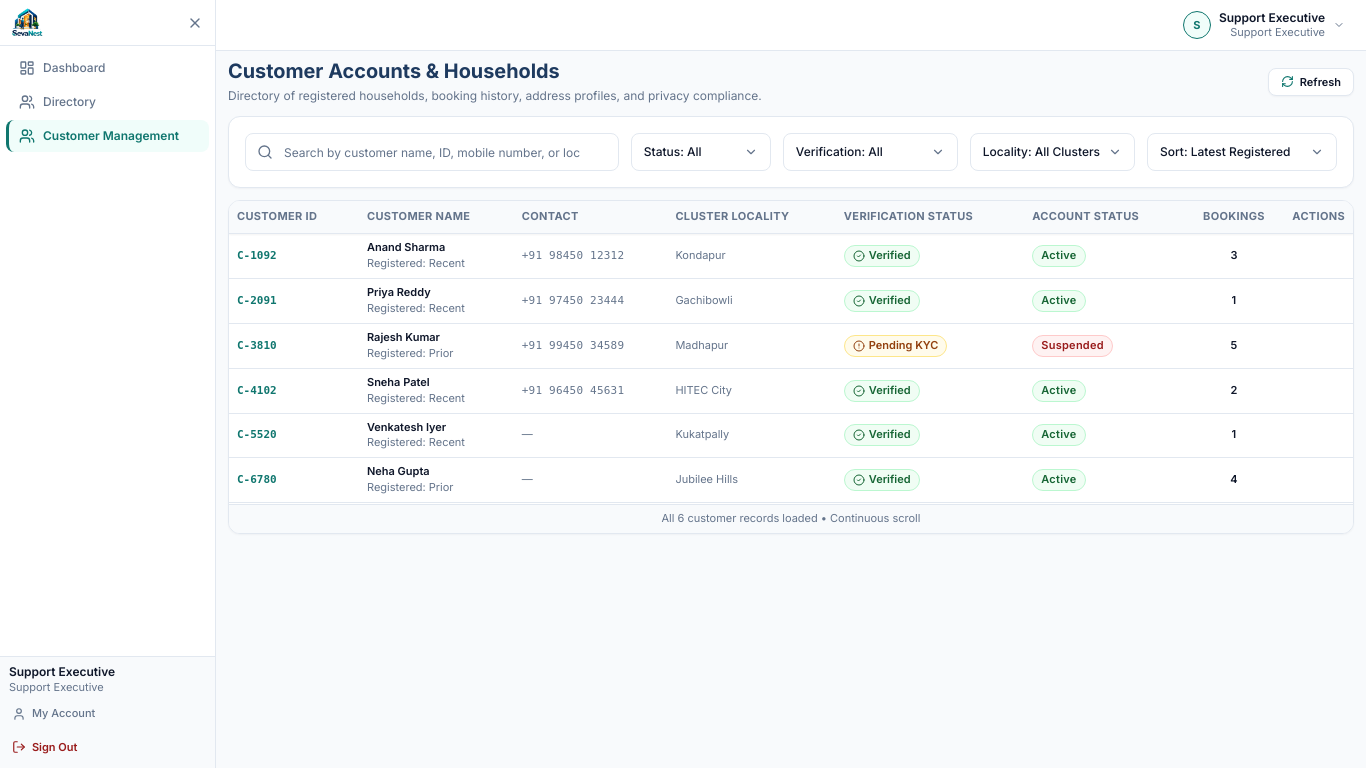
it: SevaNest Admin Portal — Customer Suspension & Reactivation Action Workflows › 10. Unauthorized users without CUSTOMERS_MANAGE_STATUS cannot view Suspend or Activate actions
This screenshot has width=1366, height=768.
Expected: the heading "Customer Accounts & Households" is shown, x1=228 y1=59 x2=560 y2=83
Expected: the text "Anand Sharma" is shown, x1=367 y1=240 x2=445 y2=254
// Row click still opens the read-only customer details view
What coordinates should you click on to do the following:
click the button with aria-label "View profile for Anand Sharma"
I would click on:
 (791, 257)
Its box is x1=229 y1=234 x2=1353 y2=279.
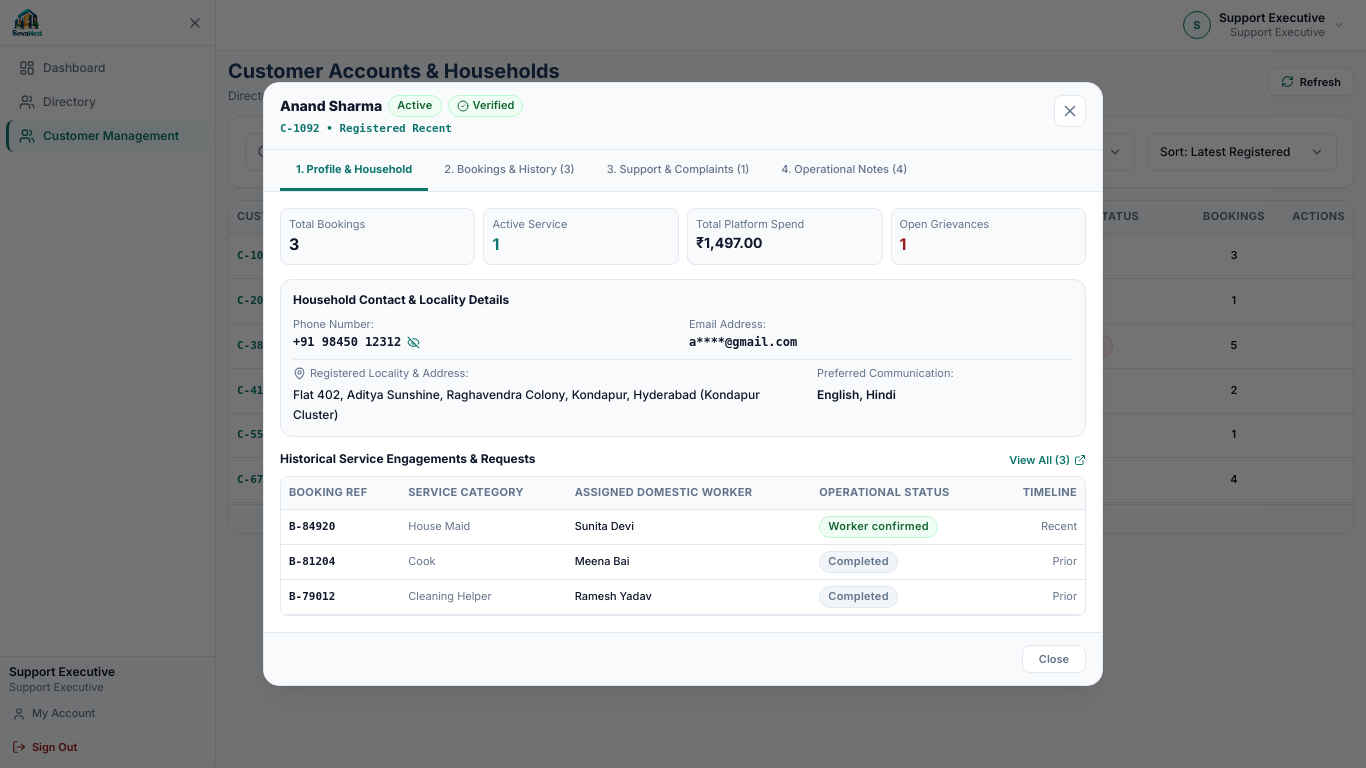
Expected: the heading "Household Contact & Locality Details" is shown, x1=293 y1=292 x2=509 y2=309
